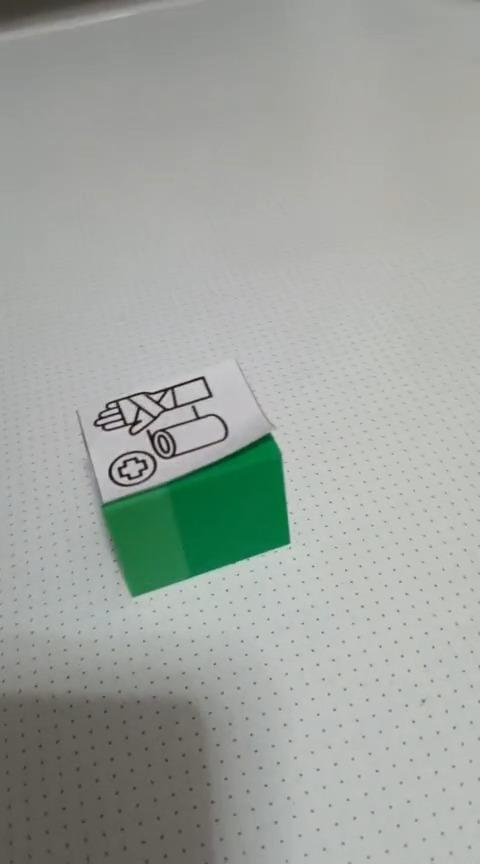Bandages: (74, 356, 291, 597)
